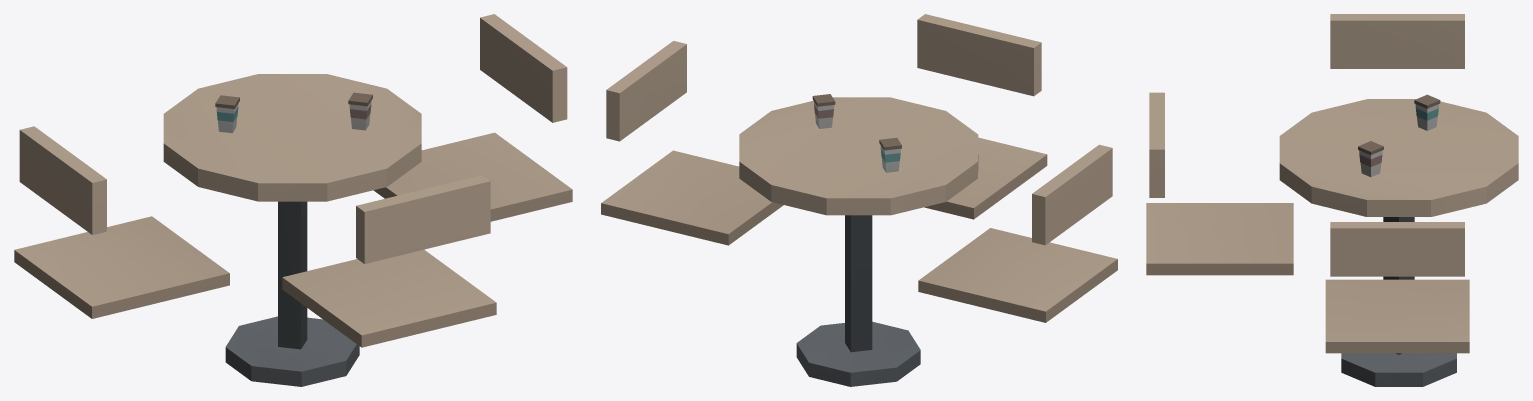
Rendered from cafe.lod1.glb.
The picture shows the model from 3 angles, left to right: view 1: azimuth 30°, elevation 25°; view 2: azimuth 150°, elevation 25°; view 3: azimuth 270°, elevation 25°; orthographic projection. The views are drawn at different scales.
Bounding box in the file's own units: 1.64 × 0.85 × 1.19.
